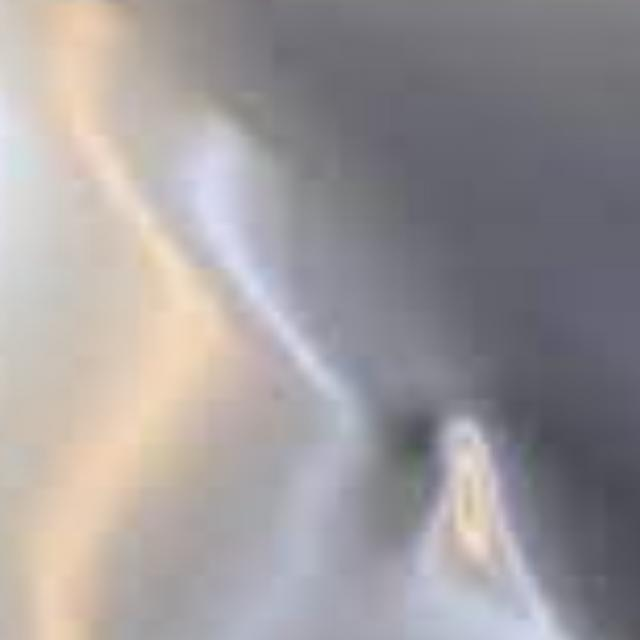dents: (379, 356, 544, 608)
